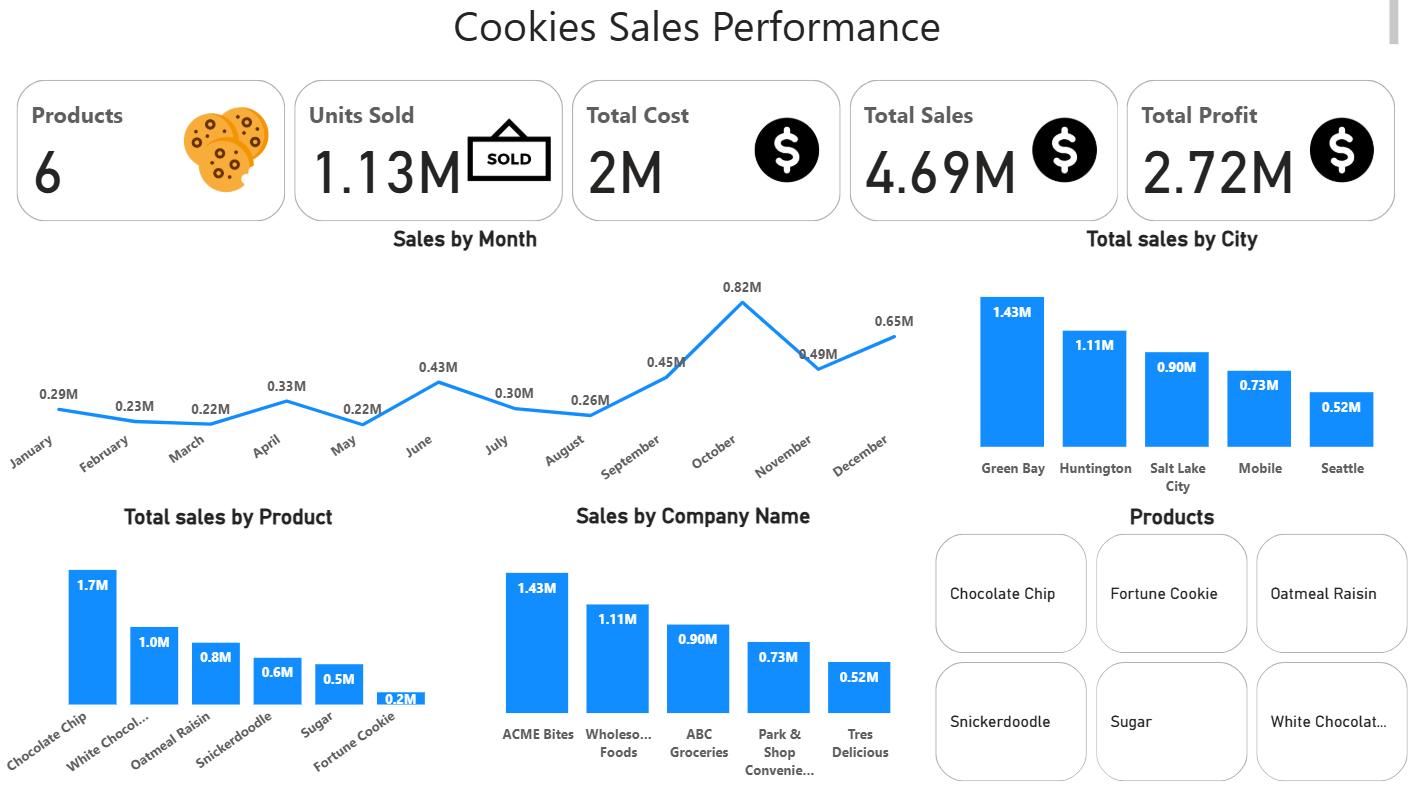

This screenshot's page, from the dashboard's own definition file:
{"tool":"powerbi","page":{"name":"Page 1","canvas":[1280,720],"ordinal":0},"visuals":[{"type":"cardVisual","fields":{"Data":["Orders.total products","Orders.units_sold","Orders.total cost","Orders.Total sales","Sum(Orders.Profit 1)"]},"box":[10.5,74.4,1258.1,138.4],"z":0},{"type":"textbox","box":[0,0,1269.8,55.8],"z":1000},{"type":"lineChart","title":"Sales by Month","fields":{"Category":["Orders.Date.Variation.Date Hierarchy.Month"],"Y":["Orders.Total sales"]},"box":[0,213.1,841.7,250],"z":2000},{"type":"columnChart","fields":{"Y":["Orders.Total sales"],"Category":["Orders.Product"]},"box":[0,463.1,413.1,257.1],"z":3000},{"type":"columnChart","title":"Sales by Company  Name","fields":{"Category":["Customers.Name"],"Y":["Orders.Total sales"]},"box":[413,463,429,257],"z":4000},{"type":"columnChart","fields":{"Category":["Orders.City"],"Y":["Orders.Total sales"]},"box":[841.7,213.1,438.1,250],"z":5000},{"type":"advancedSlicerVisual","title":"Products","fields":{"Values":["Orders.Product"]},"box":[841.7,463.1,438.1,257.1],"z":6000}]}

Visuals, with their boxes in screenshot pixels (x1, y1, x2, y2), scaled from the page's 1280x720 canvas onto the 1408x788 screenshot:
cardVisual - Orders.total products x Orders.units_sold: l=12, t=81, r=1395, b=233
textbox: l=0, t=0, r=1397, b=61
"Sales by Month" lineChart: l=0, t=233, r=926, b=507
columnChart - Orders.Total sales x Orders.Product: l=0, t=507, r=454, b=787
"Sales by Company  Name" columnChart: l=454, t=507, r=926, b=787
columnChart - Orders.City x Orders.Total sales: l=926, t=233, r=1407, b=507
"Products" advancedSlicerVisual: l=926, t=507, r=1407, b=787
